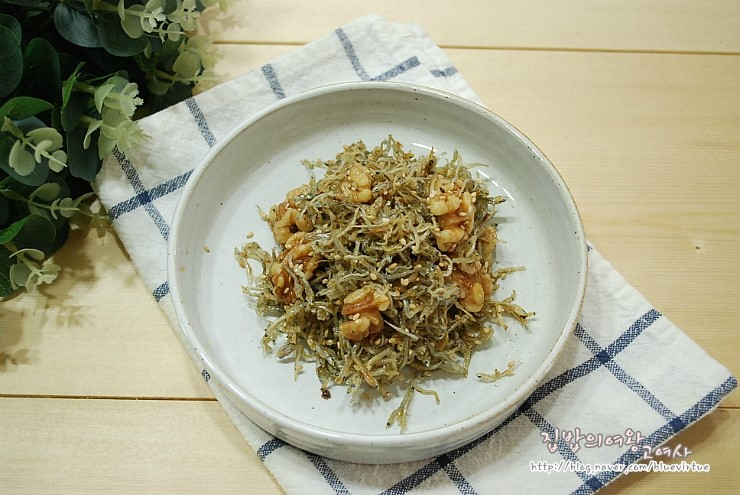myeolchibokk-eum: (227, 132, 537, 430)
